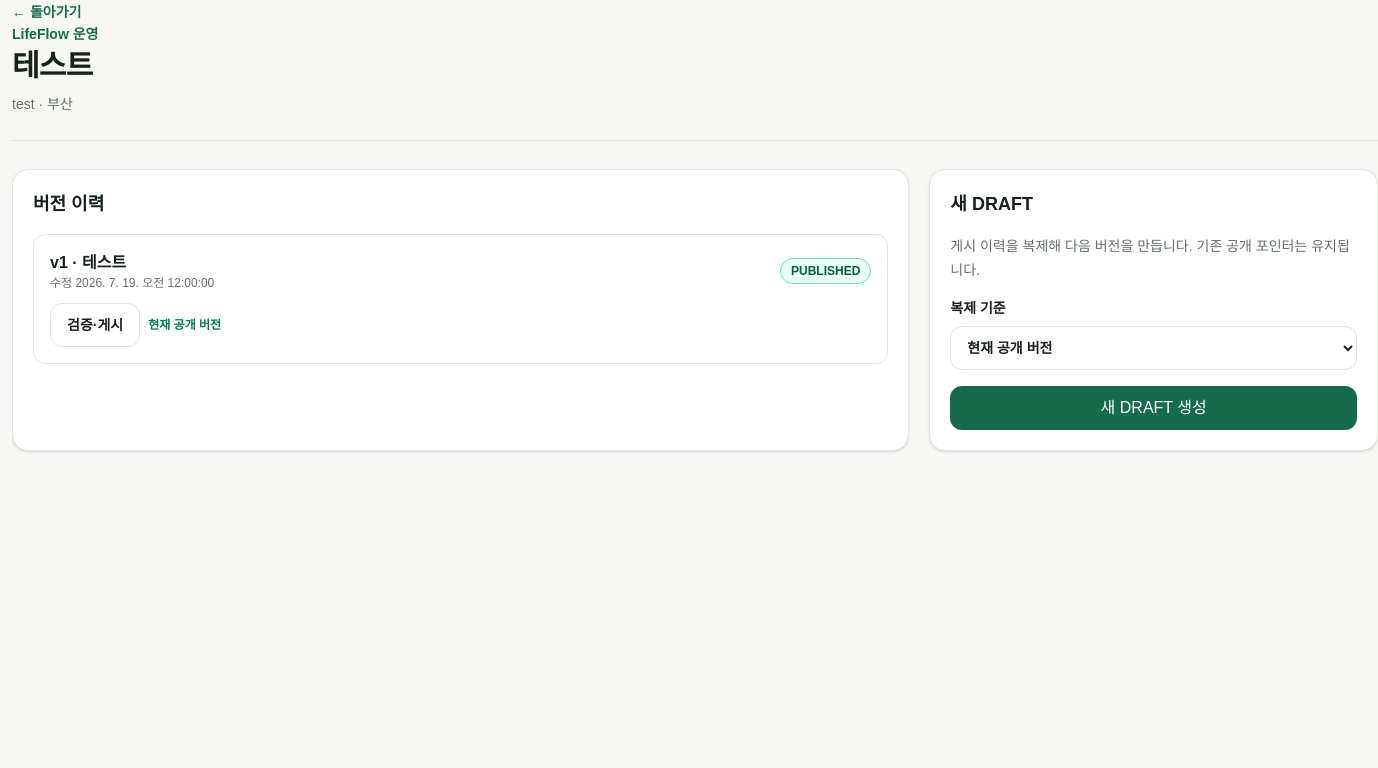
Test case: admin UI behavior › 새 DRAFT 409 충돌을 사용자에게 표시한다
Step 1. Click the button "새 DRAFT 생성" → click(1154, 408), box [950,386,1357,430]
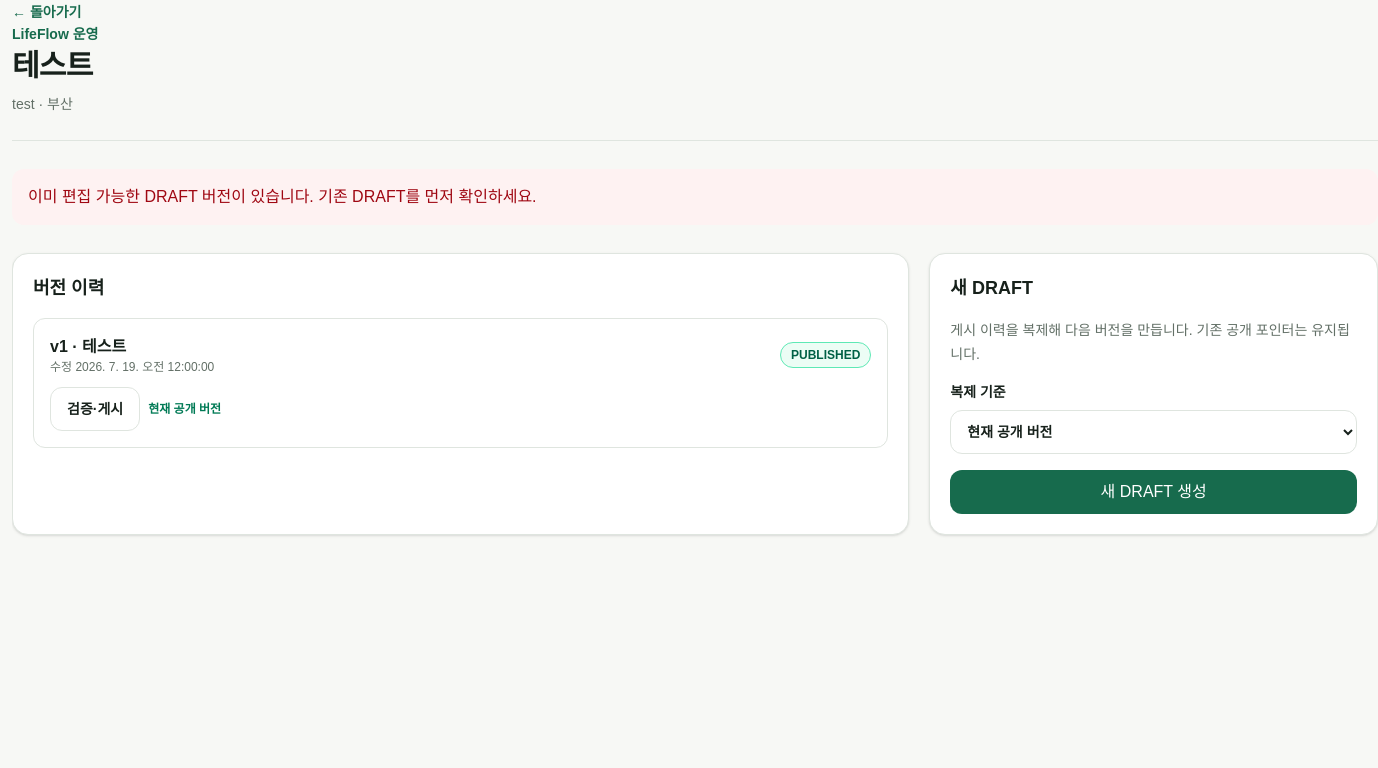
Expected: the message shows "기존 DRAFT를 먼저 확인하세요", [28,188,536,205]
